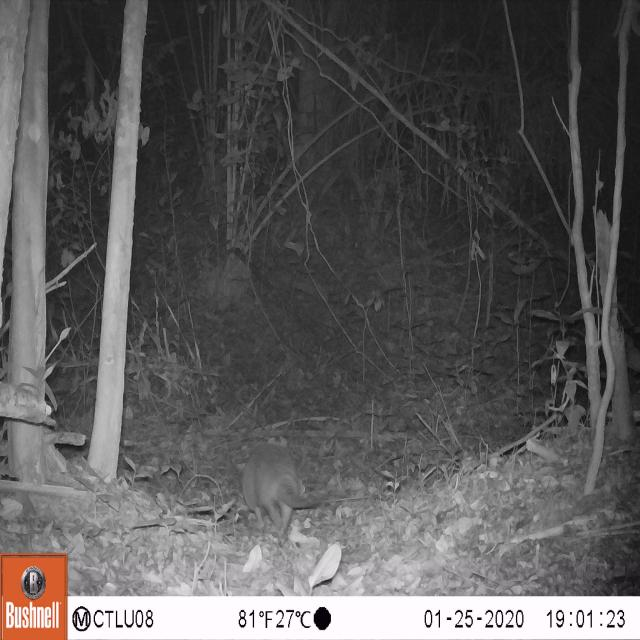Armadillo: (233, 437, 336, 547)
